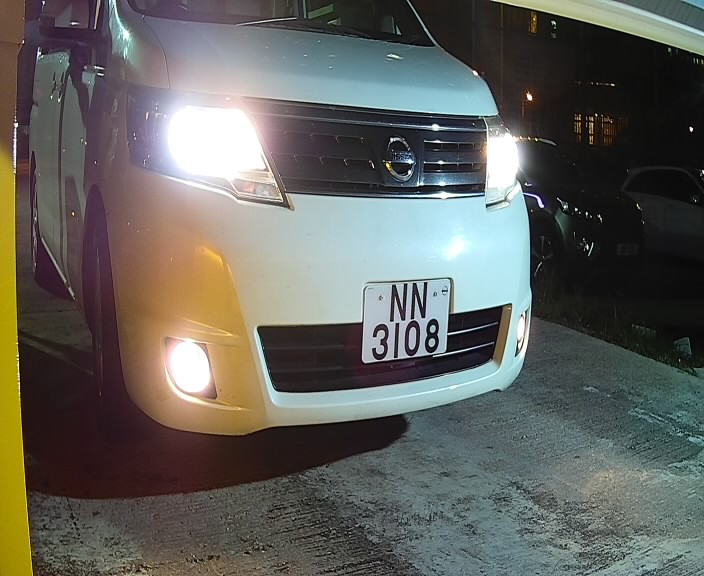Car: (27, 2, 546, 455)
License Plate: (355, 267, 461, 370)
